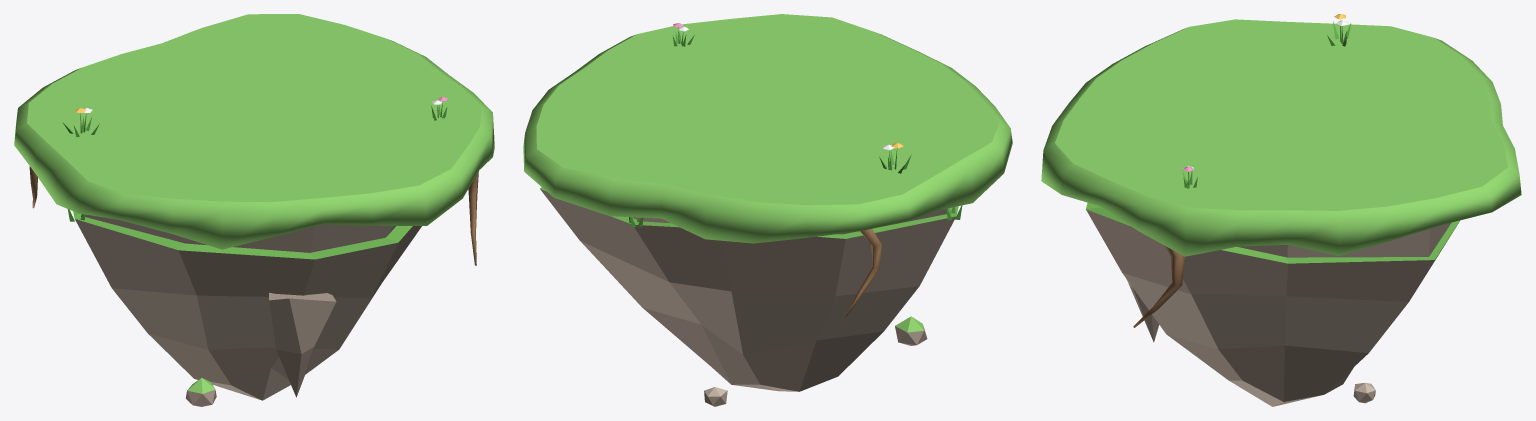
File: island-c.glb
3 views of the same model, side by side, from view 1: azimuth 30°, elevation 25°; view 2: azimuth 150°, elevation 25°; view 3: azimuth 270°, elevation 25° (orthographic). The views are drawn at different scales.
Parts seen in each view (by area): view 1: island-c; view 2: island-c; view 3: island-c.
Boxes of the visible parts, <box> form: island-c: <box>14,14,494,406</box>; island-c: <box>523,14,1012,406</box>; island-c: <box>1041,14,1521,406</box>.
Size of the model in its own units: 12 by 8.74 by 12.
